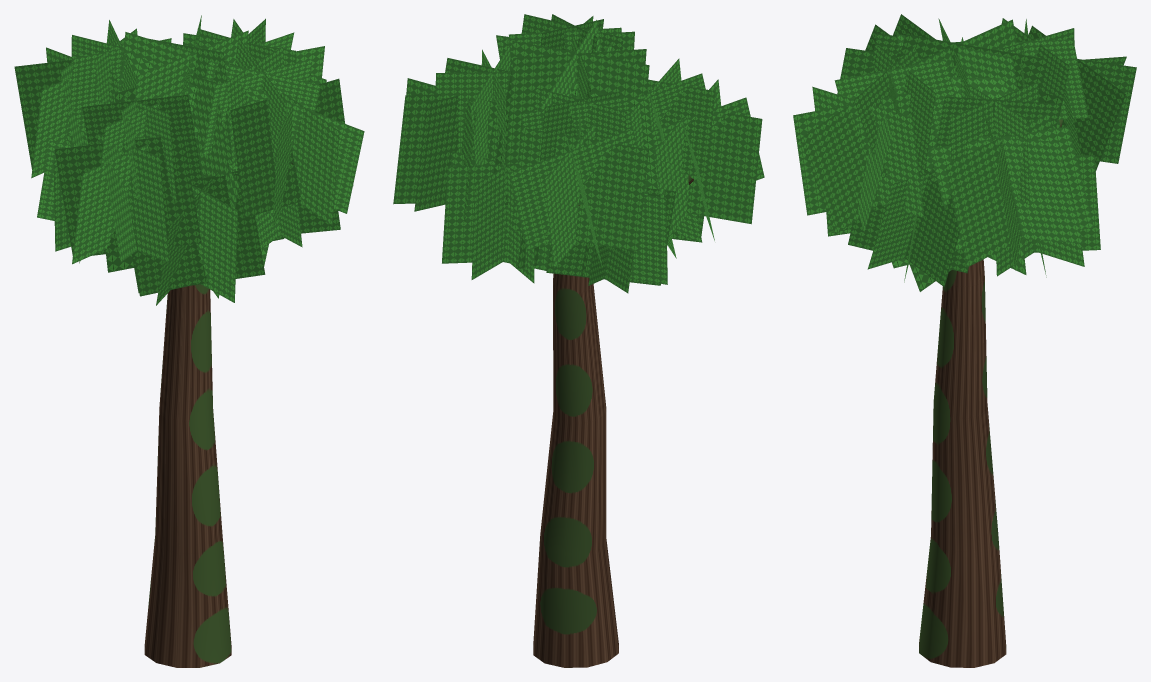
Rendered from sal_tree.glb.
3 renders of one model, left to right at view 1: azimuth 30°, elevation 25°; view 2: azimuth 150°, elevation 25°; view 3: azimuth 270°, elevation 25°, orthographic.
Visible parts, largest first — view 1: Node_SalTree; view 2: Node_SalTree; view 3: Node_SalTree.
Boxes of the visible parts, left/top/right/bottom form: Node_SalTree: left=14, top=15, right=364, bottom=667; Node_SalTree: left=393, top=14, right=764, bottom=667; Node_SalTree: left=793, top=14, right=1136, bottom=667.
Size of the model in its own units: 8.5 by 16.66 by 8.39.
2 materials, 2 textured.
